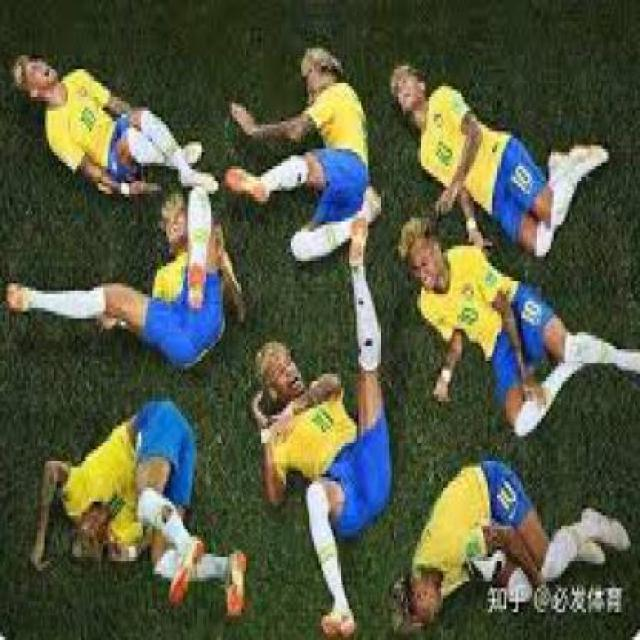fall: (387, 432, 628, 623)
